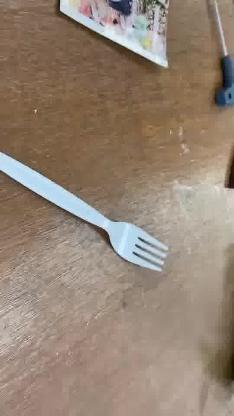Others: (1, 146, 172, 276)
